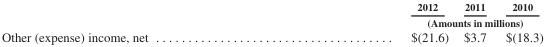table: (0, 0, 542, 44)
table column: (0, 0, 278, 44), (278, 0, 455, 44), (495, 0, 542, 44), (455, 0, 495, 44)
table column header: (0, 0, 542, 29)
table row: (0, 14, 542, 29), (0, 29, 542, 44), (0, 0, 542, 14)
table spanning cell: (278, 14, 542, 29)
